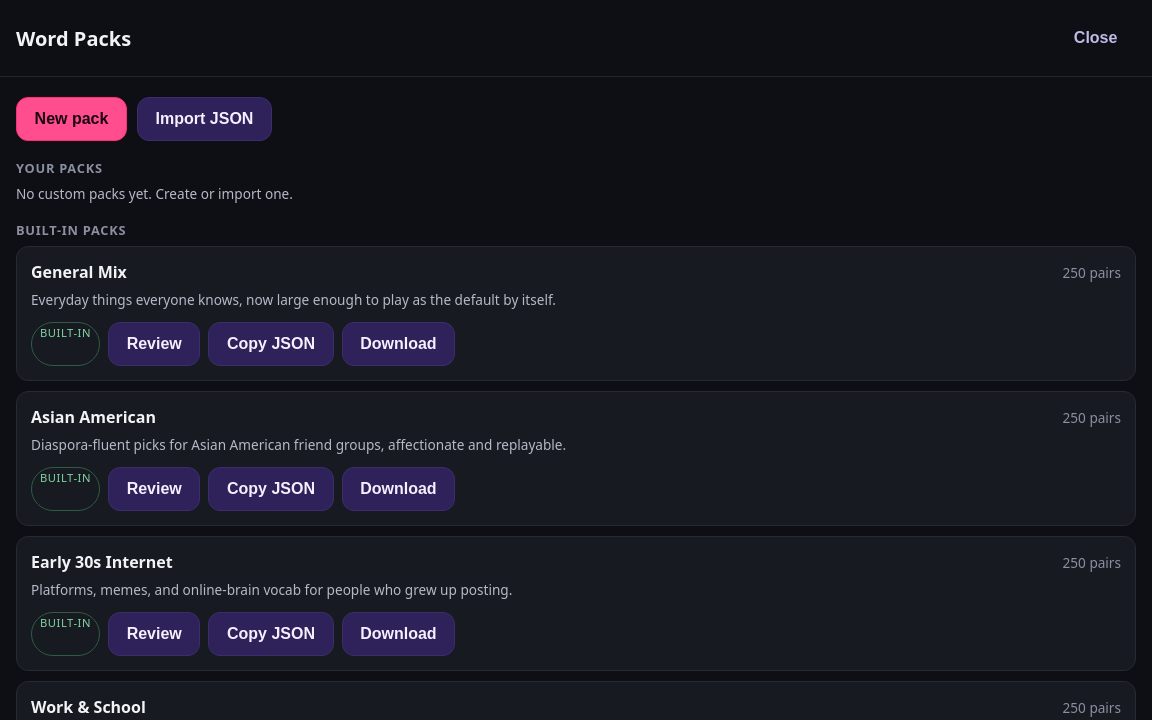
PackEditor create › shows validation errors for an invalid pack
Click the button "New pack".
click(72, 119)  # box x1=16 y1=97 x2=127 y2=141
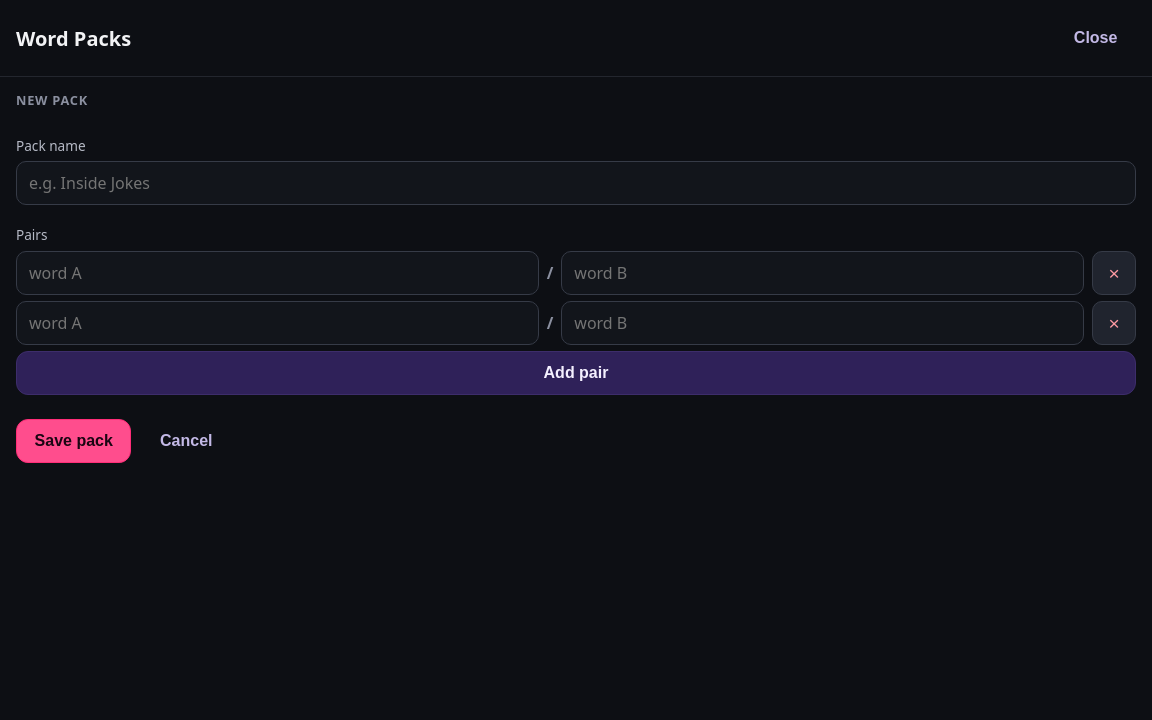
# No name, no pairs.
Click the button "Save pack".
click(74, 441)  # box x1=16 y1=419 x2=132 y2=463
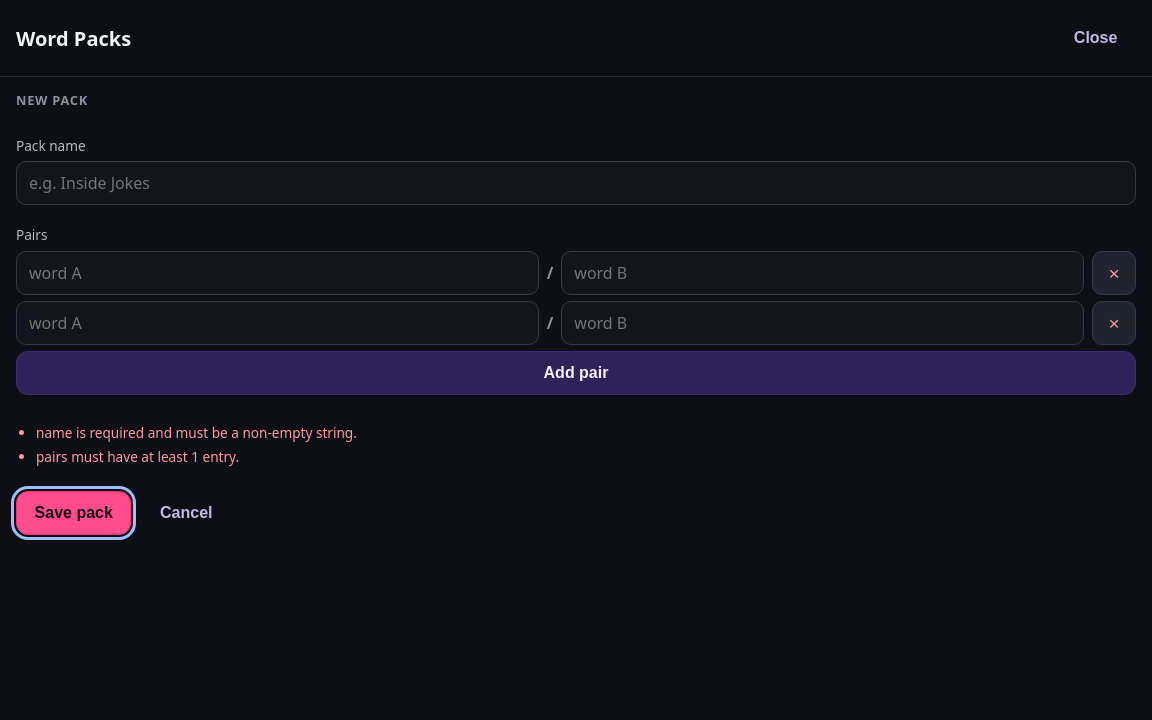
Expected: the list item "name is required and must be a non-empty string." is shown, x1=36 y1=423 x2=357 y2=442
